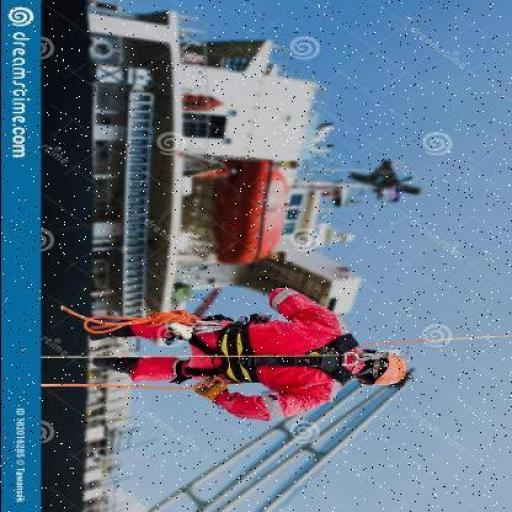person: (68, 295, 420, 419)
safety_shoe: (83, 316, 140, 345), (88, 354, 142, 378)
